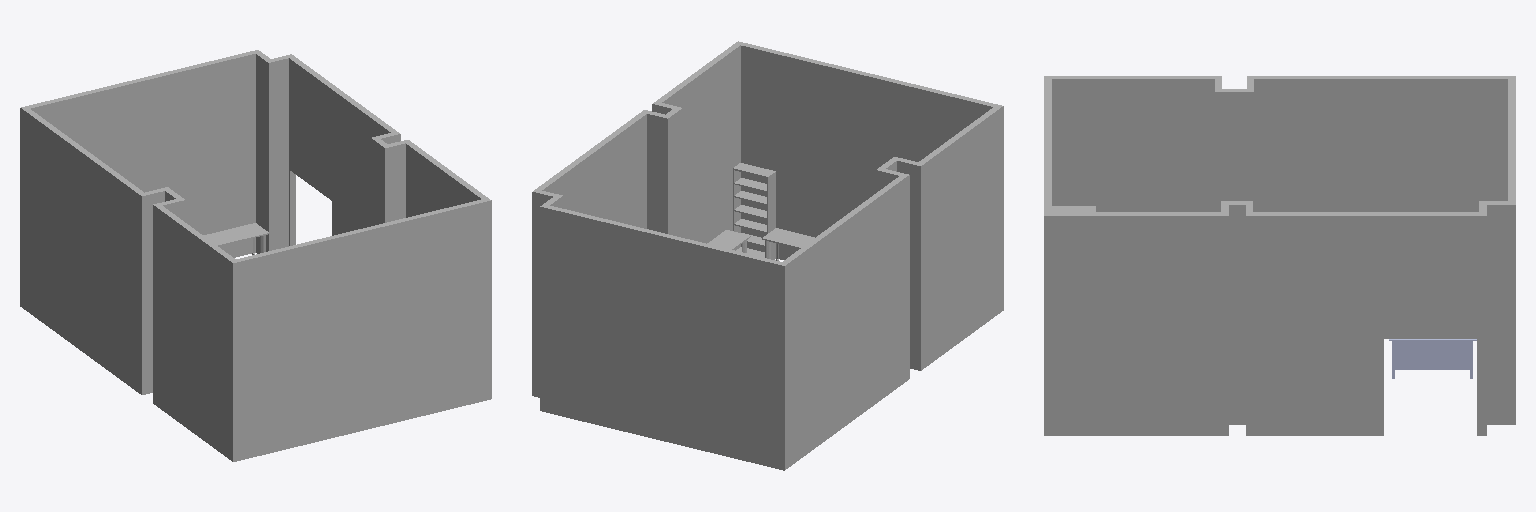
The robot description file, URDF, robot "kitchen_gazebo":
<?xml version="1.0"?>
<robot
  name="kitchen_gazebo">
  <link
    name="base_link">
    <inertial>
      <origin
        xyz="2.83589616654608 4.85845882172952 2.39852955353243"
        rpy="0 0 0" />
      <mass
        value="24691.7377583292" />
      <inertia
        ixx="343815.987422869"
        ixy="-7566.09208113178"
        ixz="-1978.34548755253"
        iyy="227965.905504378"
        iyz="-3896.89237666236"
        izz="474809.81262165" />
    </inertial>
    <visual>
      <origin
        xyz="0 0 0"
        rpy="0 0 0" />
      <geometry>
        <mesh
          filename="package://kitchen_gazebo/meshes/base_link.STL" />
      </geometry>
      <material
        name="">
        <color
          rgba="0.749019607843137 0.749019607843137 0.749019607843137 1" />
      </material>
    </visual>
    <collision>
      <origin
        xyz="0 0 0"
        rpy="0 0 0" />
      <geometry>
        <mesh
          filename="package://kitchen_gazebo/meshes/base_link.STL" />
      </geometry>
    </collision>
  </link>
  <link
    name="kitchen_counter">
    <inertial>
      <origin
        xyz="2.38301689041543 1.65260566017838 0.542879278370129"
        rpy="0 0 0" />
      <mass
        value="167.482669275965" />
      <inertia
        ixx="54.2393970761067"
        ixy="0.0993424140279441"
        ixz="-0.28703438528954"
        iyy="15.7975498421969"
        iyz="0.582832371257121"
        izz="51.4877219057791" />
    </inertial>
    <visual>
      <origin
        xyz="0 0 0"
        rpy="0 0 0" />
      <geometry>
        <mesh
          filename="package://kitchen_gazebo/meshes/kitchen_counter.STL" />
      </geometry>
      <material
        name="">
        <color
          rgba="0.792156862745098 0.819607843137255 0.933333333333333 1" />
      </material>
    </visual>
    <collision>
      <origin
        xyz="0 0 0"
        rpy="0 0 0" />
      <geometry>
        <mesh
          filename="package://kitchen_gazebo/meshes/kitchen_counter.STL" />
      </geometry>
    </collision>
  </link>
  <joint
    name="kitchen_counter"
    type="fixed">
    <origin
      xyz="0 0 0"
      rpy="0 0 0" />
    <parent
      link="base_link" />
    <child
      link="kitchen_counter" />
    <axis
      xyz="0 0 0" />
  </joint>
  <link
    name="drawer_left">
    <inertial>
      <origin
        xyz="2.44680110642472 1.63740000000001 0.741347982329303"
        rpy="0 0 0" />
      <mass
        value="9.47751493301151" />
      <inertia
        ixx="0.315267674681916"
        ixy="-7.90837973831297E-16"
        ixz="0.000191715380340751"
        iyy="0.410595971523309"
        iyz="-5.87339207491008E-16"
        izz="0.65639688324943" />
    </inertial>
    <visual>
      <origin
        xyz="0 0 0"
        rpy="0 0 0" />
      <geometry>
        <mesh
          filename="package://kitchen_gazebo/meshes/drawer_left.STL" />
      </geometry>
      <material
        name="">
        <color
          rgba="0.792156862745098 0.819607843137255 0.933333333333333 1" />
      </material>
    </visual>
    <collision>
      <origin
        xyz="0 0 0"
        rpy="0 0 0" />
      <geometry>
        <mesh
          filename="package://kitchen_gazebo/meshes/drawer_left.STL" />
      </geometry>
    </collision>
  </link>
  <joint
    name="drawer_left"
    type="prismatic">
    <origin
      xyz="0 0 0"
      rpy="0 0 0" />
    <parent
      link="kitchen_counter" />
    <child
      link="drawer_left" />
    <limit effort="1000.0" lower="0" upper="0.55" velocity="0.5" />
    <axis
      xyz="1 0 0" />
  </joint>
  <link
    name="drawer_right">
    <inertial>
      <origin
        xyz="2.44680110642474 2.1374 0.741347982329303"
        rpy="0 0 0" />
      <mass
        value="9.4775149330115" />
      <inertia
        ixx="0.315267674681916"
        ixy="-7.8309073714181E-16"
        ixz="0.000191715380340952"
        iyy="0.410595971523309"
        iyz="-6.57397754442309E-16"
        izz="0.65639688324943" />
    </inertial>
    <visual>
      <origin
        xyz="0 0 0"
        rpy="0 0 0" />
      <geometry>
        <mesh
          filename="package://kitchen_gazebo/meshes/drawer_right.STL" />
      </geometry>
      <material
        name="">
        <color
          rgba="0.792156862745098 0.819607843137255 0.933333333333333 1" />
      </material>
    </visual>
    <collision>
      <origin
        xyz="0 0 0"
        rpy="0 0 0" />
      <geometry>
        <mesh
          filename="package://kitchen_gazebo/meshes/drawer_right.STL" />
      </geometry>
    </collision>
  </link>
  <joint
    name="drawer_right"
    type="prismatic">
    <origin
      xyz="0 0 0"
      rpy="0 0 0" />
    <parent
      link="kitchen_counter" />
    <child
      link="drawer_right" />
    <limit effort="1000.0" lower="0" upper="0.55" velocity="0.5" />
    <axis
      xyz="1 0 0" />
  </joint>
  <link
    name="water_pipe">
    <inertial>
      <origin
        xyz="2.27211100330439 0.970928760283305 0.971666803670552"
        rpy="0 0 0" />
      <mass
        value="0.278769423544692" />
      <inertia
        ixx="0.00254972636821375"
        ixy="0.00110850271087339"
        ixz="0.000513470366158544"
        iyy="0.00126944006753606"
        iyz="0.000889276547537518"
        izz="0.00261412476087193" />
    </inertial>
    <visual>
      <origin
        xyz="0 0 0"
        rpy="0 0 0" />
      <geometry>
        <mesh
          filename="package://kitchen_gazebo/meshes/water_pipe.STL" />
      </geometry>
      <material
        name="">
        <color
          rgba="0.792156862745098 0.819607843137255 0.933333333333333 1" />
      </material>
    </visual>
    <collision>
      <origin
        xyz="0 0 0"
        rpy="0 0 0" />
      <geometry>
        <mesh
          filename="package://kitchen_gazebo/meshes/water_pipe.STL" />
      </geometry>
    </collision>
  </link>
  <joint
    name="water_pipe"
    type="fixed">
    <origin
      xyz="0 0 0"
      rpy="0 0 0" />
    <parent
      link="kitchen_counter" />
    <child
      link="water_pipe" />
    <axis
      xyz="0 0 0" />
  </joint>
  <link
    name="counter_sink">
    <inertial>
      <origin
        xyz="2.4412 1.1474 0.814818333044056"
        rpy="0 0 0" />
      <mass
        value="2.96176611388953" />
      <inertia
        ixx="0.0630960188366444"
        ixy="1.35447299714864E-19"
        ixz="-2.66705856283819E-17"
        iyy="0.0500589614821276"
        iyz="-2.3773727518711E-18"
        izz="0.101018683191766" />
    </inertial>
    <visual>
      <origin
        xyz="0 0 0"
        rpy="0 0 0" />
      <geometry>
        <mesh
          filename="package://kitchen_gazebo/meshes/counter_sink.STL" />
      </geometry>
      <material
        name="">
        <color
          rgba="0.792156862745098 0.819607843137255 0.933333333333333 1" />
      </material>
    </visual>
    <collision>
      <origin
        xyz="0 0 0"
        rpy="0 0 0" />
      <geometry>
        <mesh
          filename="package://kitchen_gazebo/meshes/counter_sink.STL" />
      </geometry>
    </collision>
  </link>
  <joint
    name="counter_sink"
    type="fixed">
    <origin
      xyz="0 0 0"
      rpy="0 0 0" />
    <parent
      link="kitchen_counter" />
    <child
      link="counter_sink" />
    <axis
      xyz="0 0 0" />
  </joint>
</robot>

--- Facts derived from the render (not from the file) ---
3 views of the same robot in one strip: view 1: azimuth 30°, elevation 25°; view 2: azimuth 150°, elevation 25°; view 3: azimuth 270°, elevation 25° (orthographic).
Robot: kitchen_gazebo — 6 links, 5 joints (2 prismatic, 3 fixed); root link base_link; default pose: all joints at 0.
Visible links, largest first — view 1: base_link; view 2: base_link; view 3: base_link, kitchen_counter.
Link boxes in pixels (x1,y1,x2,y2): base_link: (20,50,491,461); base_link: (532,41,1003,470); base_link: (1044,76,1515,435); kitchen_counter: (1389,339,1476,378).
Size in the robot's own frame: 6.55 by 9.36 by 4.83 metres.
Meshes: 6 distinct files referenced, 6 mesh visuals loaded (6 binary STL).